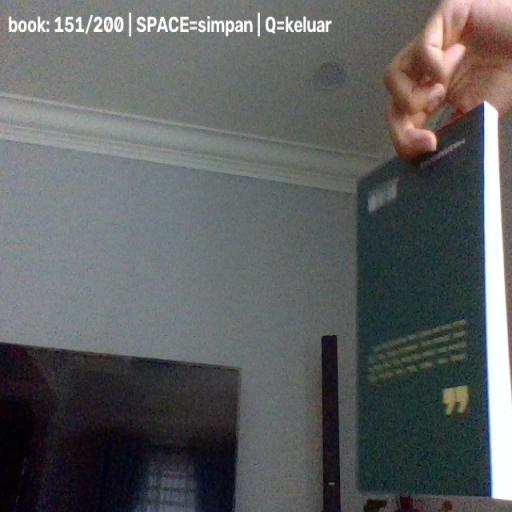Book: (356, 100, 512, 502)
